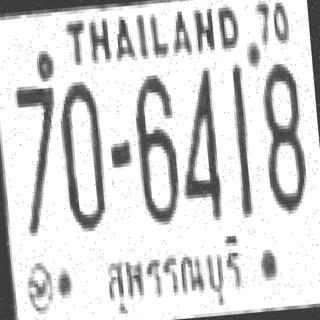N00: (56, 77, 107, 230)
N01: (228, 63, 253, 213)
N04: (173, 65, 222, 221)
N06: (130, 70, 180, 223)
N07: (14, 82, 63, 235), (13, 82, 59, 188)
N08: (257, 59, 306, 212)
P66: (98, 230, 248, 319)
